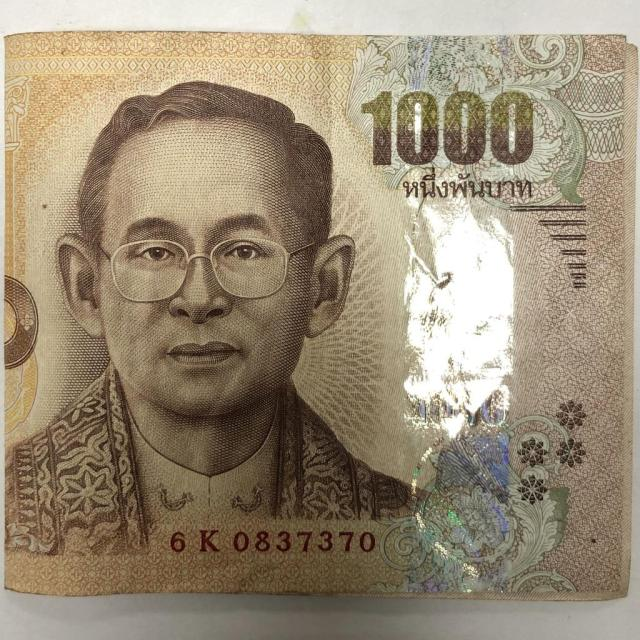THAI1000: (4, 31, 637, 600)
